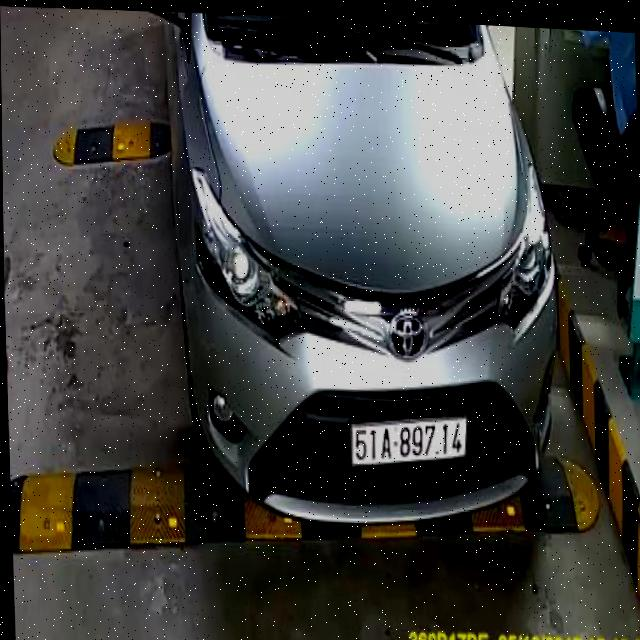car: (150, 8, 575, 554)
plate: (343, 412, 477, 472)
